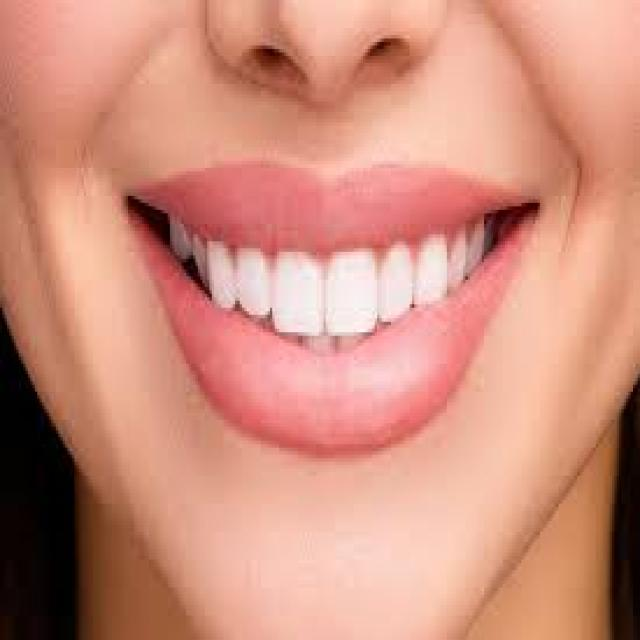tooth: (328, 252, 375, 332), (277, 248, 321, 329), (232, 252, 268, 315), (414, 252, 447, 301), (382, 245, 405, 311), (207, 245, 231, 301), (191, 228, 207, 276), (452, 228, 463, 284), (470, 217, 482, 262), (167, 217, 184, 248), (484, 213, 493, 245)
